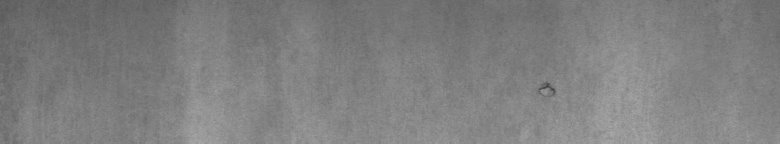fi: (538, 76, 560, 100)
